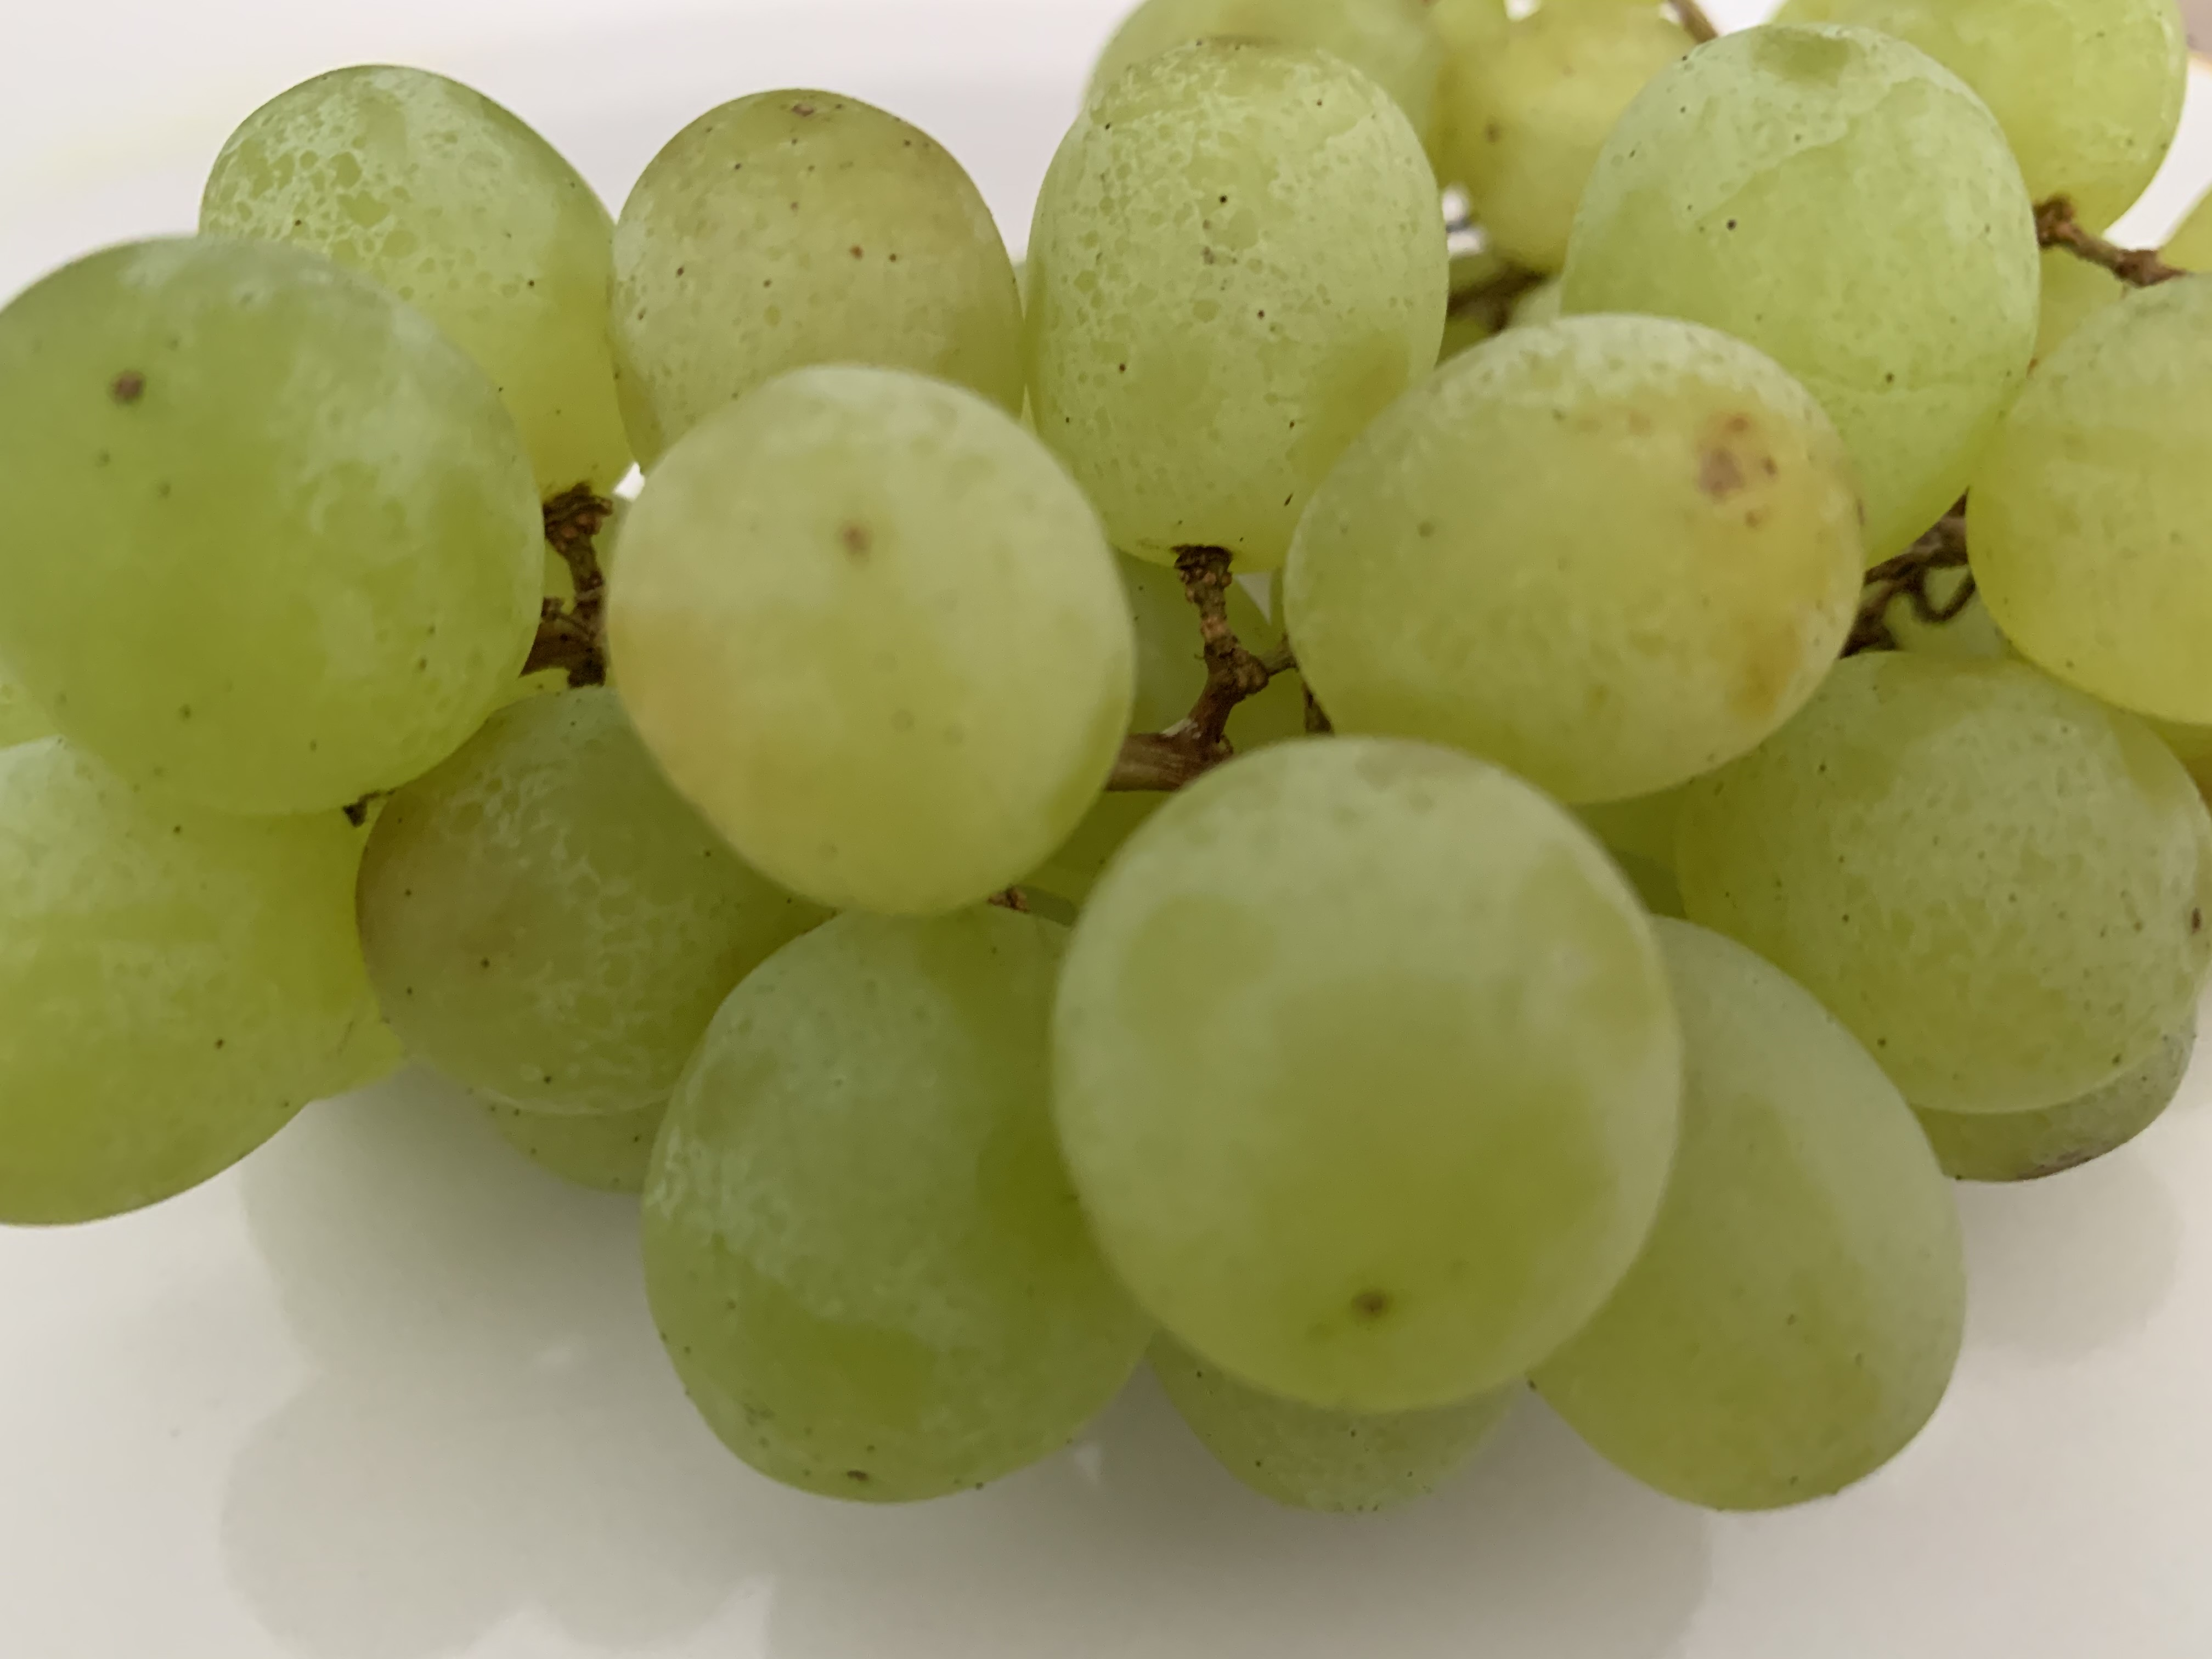grapes: (1064, 751, 1660, 1377), (639, 903, 1153, 1493), (1524, 915, 2003, 1514), (1305, 321, 1867, 782), (608, 387, 1109, 840), (1578, 26, 2050, 491), (5, 296, 509, 720), (1033, 71, 1420, 558), (622, 84, 1022, 410)
